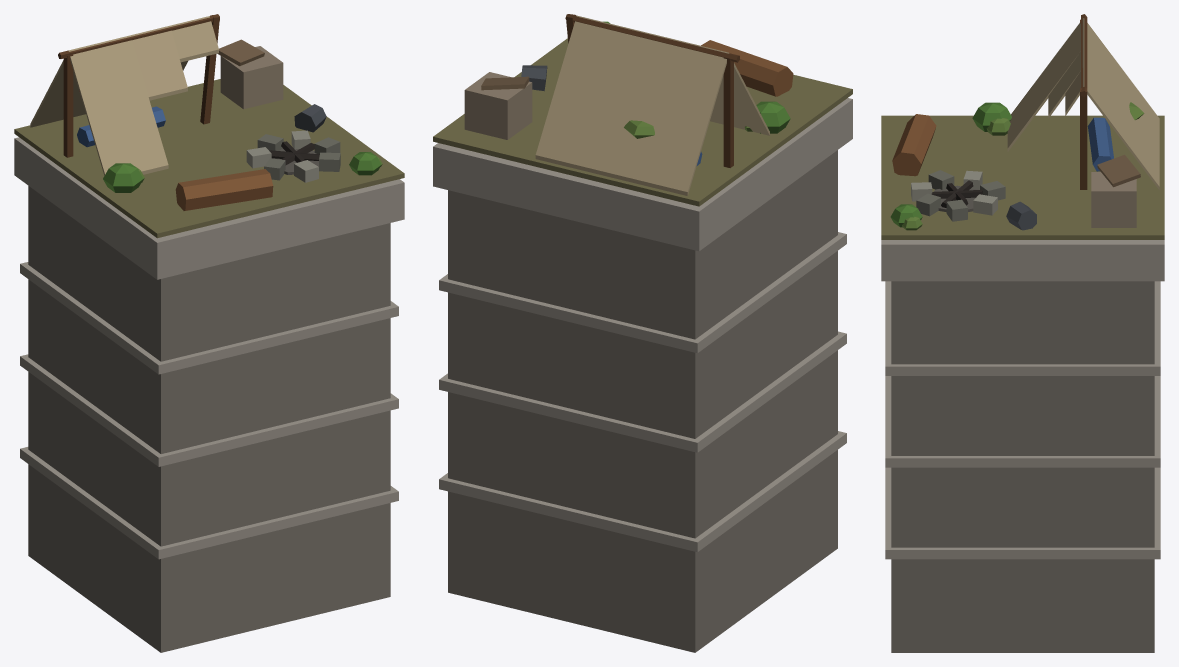
Rendered from decor_abandoned_camp.glb.
3 views of the same model, side by side, from view 1: azimuth 30°, elevation 25°; view 2: azimuth 150°, elevation 25°; view 3: azimuth 270°, elevation 25° (orthographic). The views are drawn at different scales.
Visible parts, largest first — view 1: decor_abandoned_camp; view 2: decor_abandoned_camp; view 3: decor_abandoned_camp.
Boxes of the visible parts, x1=… form: decor_abandoned_camp: x1=14, y1=14, x2=404, y2=652; decor_abandoned_camp: x1=433, y1=14, x2=852, y2=652; decor_abandoned_camp: x1=881, y1=14, x2=1164, y2=652.
Bounding box in the file's own units: 2.8 × 5.74 × 2.8.
